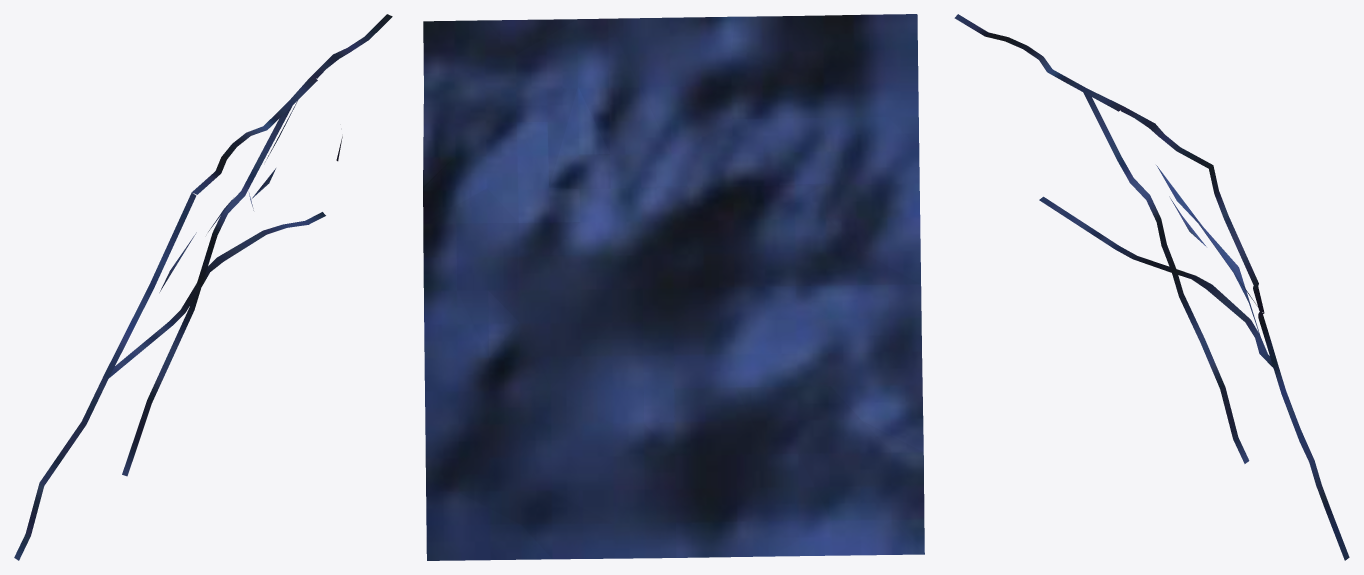
The picture shows the model from 3 angles, left to right: view 1: azimuth 30°, elevation 25°; view 2: azimuth 150°, elevation 25°; view 3: azimuth 270°, elevation 25°; orthographic projection. The views are drawn at different scales.
Size of the model in its own units: 19284 by 18781 by 15678.
1 material, 1 textured.
